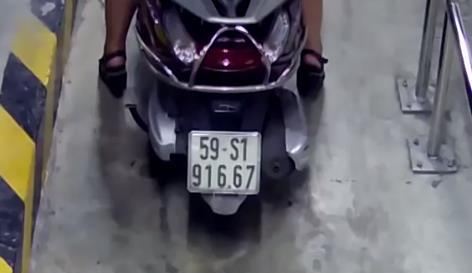lisence: (188, 128, 261, 195)
